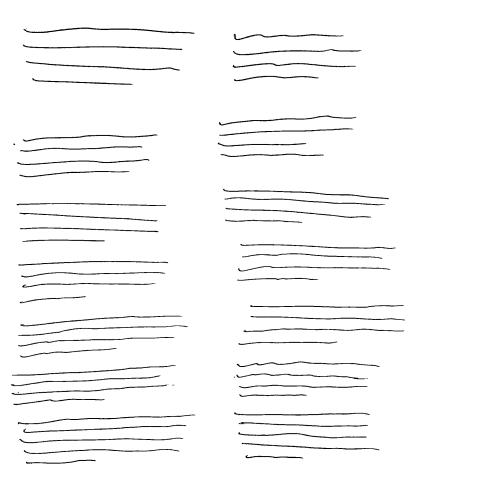Paragraph: (20, 26, 196, 89), (17, 412, 193, 466), (16, 313, 190, 361), (234, 304, 412, 346), (233, 411, 379, 462), (9, 364, 177, 408), (230, 31, 368, 83), (218, 187, 393, 227), (234, 242, 401, 283), (17, 132, 162, 179), (16, 260, 170, 304), (16, 202, 169, 245), (216, 115, 357, 158), (233, 361, 383, 400)
